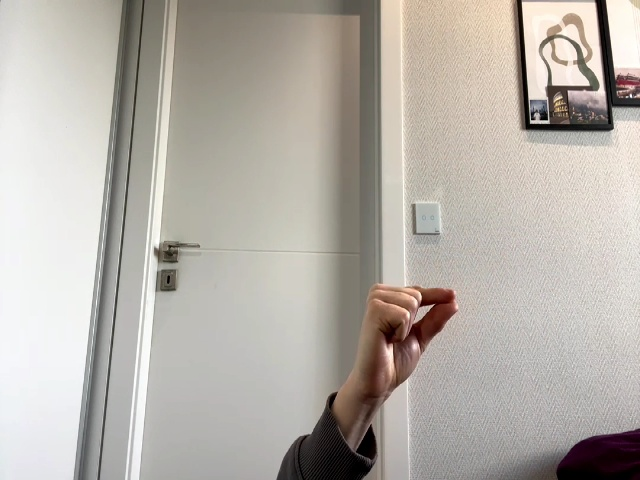P: (355, 283, 457, 408)
